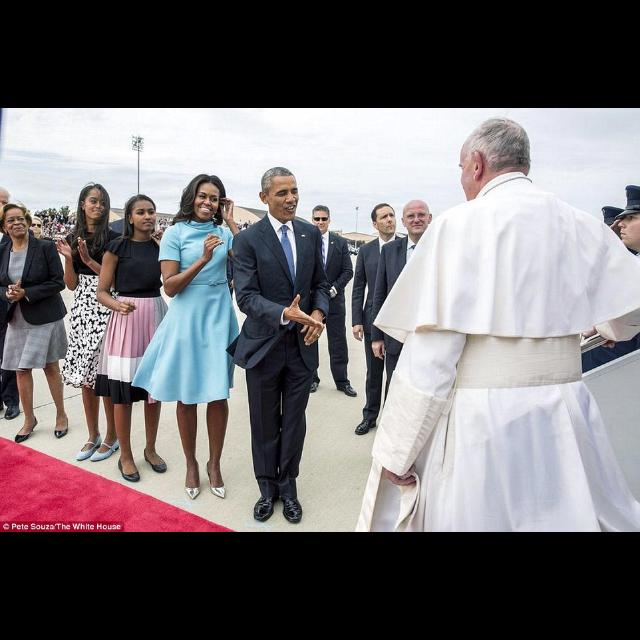head: (458, 118, 532, 204), (257, 166, 301, 224), (188, 174, 226, 222), (125, 192, 158, 234), (402, 200, 434, 237), (80, 183, 110, 220), (1, 205, 31, 238), (372, 203, 398, 234), (312, 205, 332, 233)
person: (229, 166, 333, 528), (156, 172, 252, 506), (94, 193, 182, 489), (53, 180, 137, 466), (371, 197, 469, 441), (350, 201, 434, 439), (0, 202, 72, 443), (298, 202, 360, 400)
